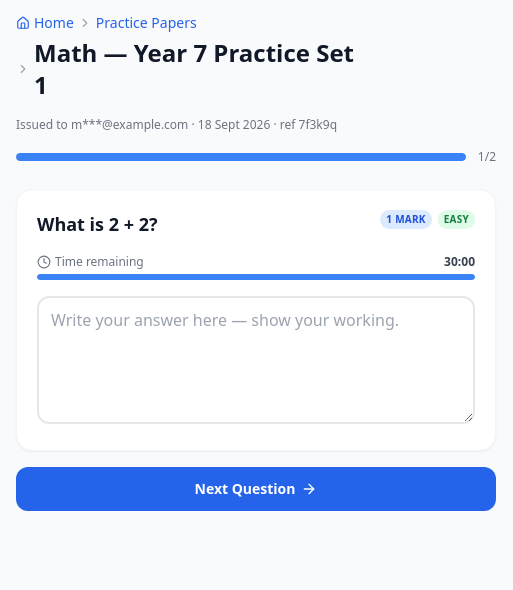
Test: PaperRunnerClient — the issued-to line › keeps the line on the results screen as well as the question flow
Click the button "Next Question" at (256, 489), box [16,467,496,511]
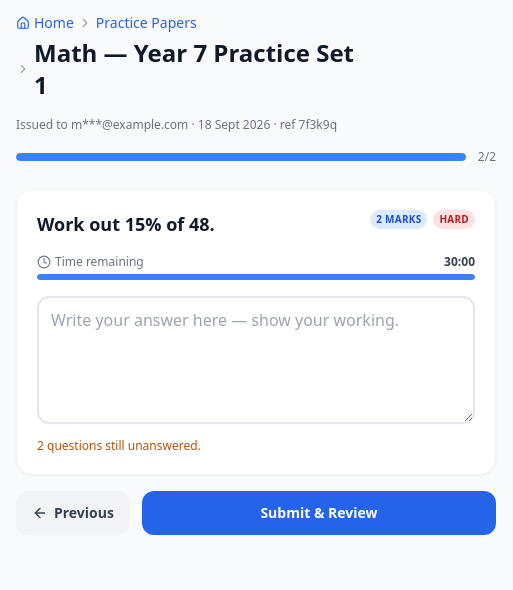
Click the button "Submit & Review" at (319, 513), box [142,491,496,535]
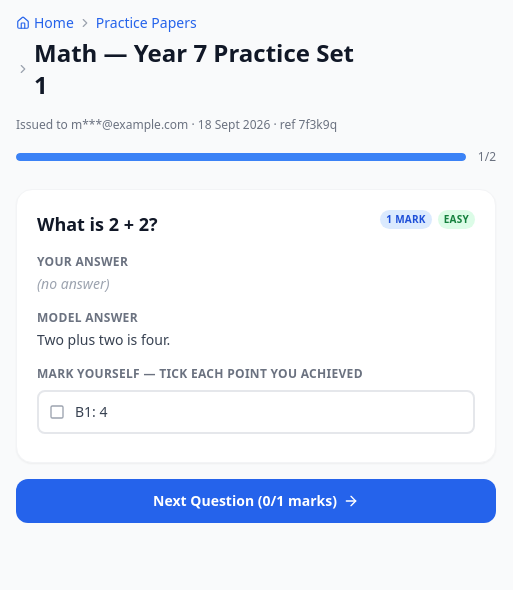
Click the button "Next Question (0/1 marks)" at (256, 501), box [16,479,496,523]
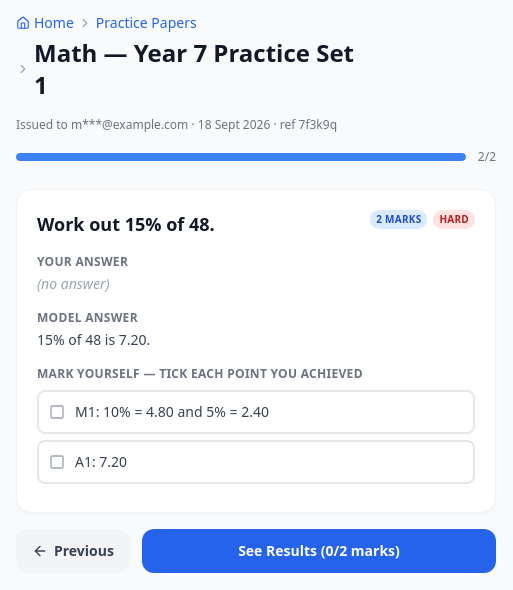
Click the button "See Results (0/2 marks)" at (319, 551), box [142,529,496,573]
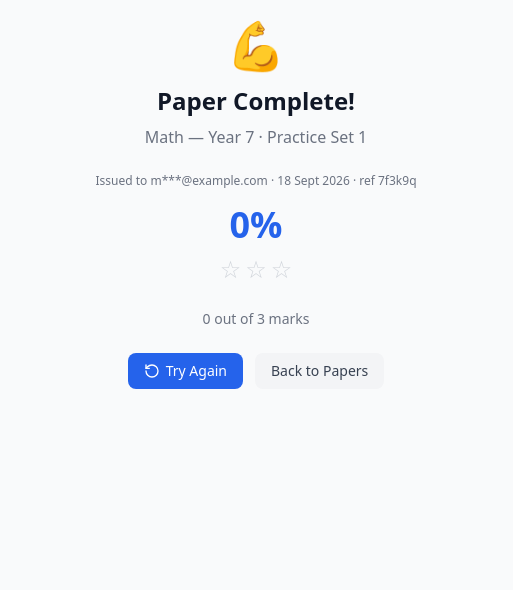
Expected: the text "Issued to m***@example.com · 18 Sept 2026 · ref 7f3k9q" is shown, [96,172,416,189]
Expected: the heading "Paper Complete!" is shown, [157,84,355,117]
